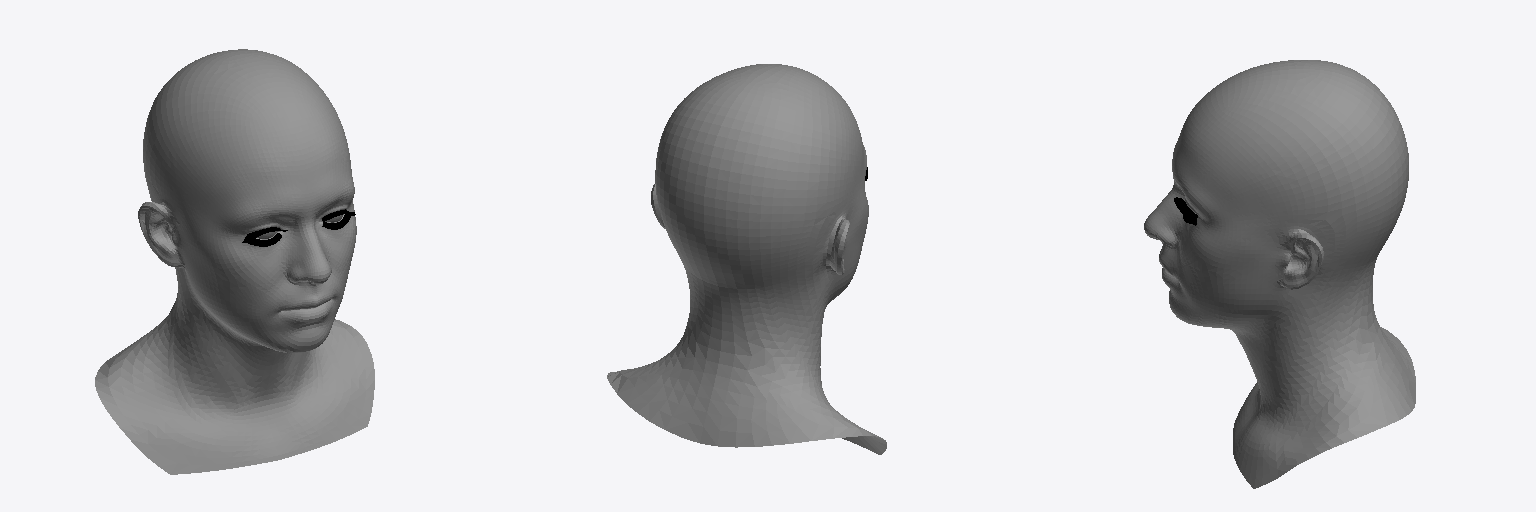
Rendered from identity091.obj.
The picture shows the model from 3 angles: view 1: azimuth 30°, elevation 25°; view 2: azimuth 150°, elevation 25°; view 3: azimuth 270°, elevation 25°; orthographic projection.
Bounding box in the file's own units: 24.83 × 33.81 × 22.32.